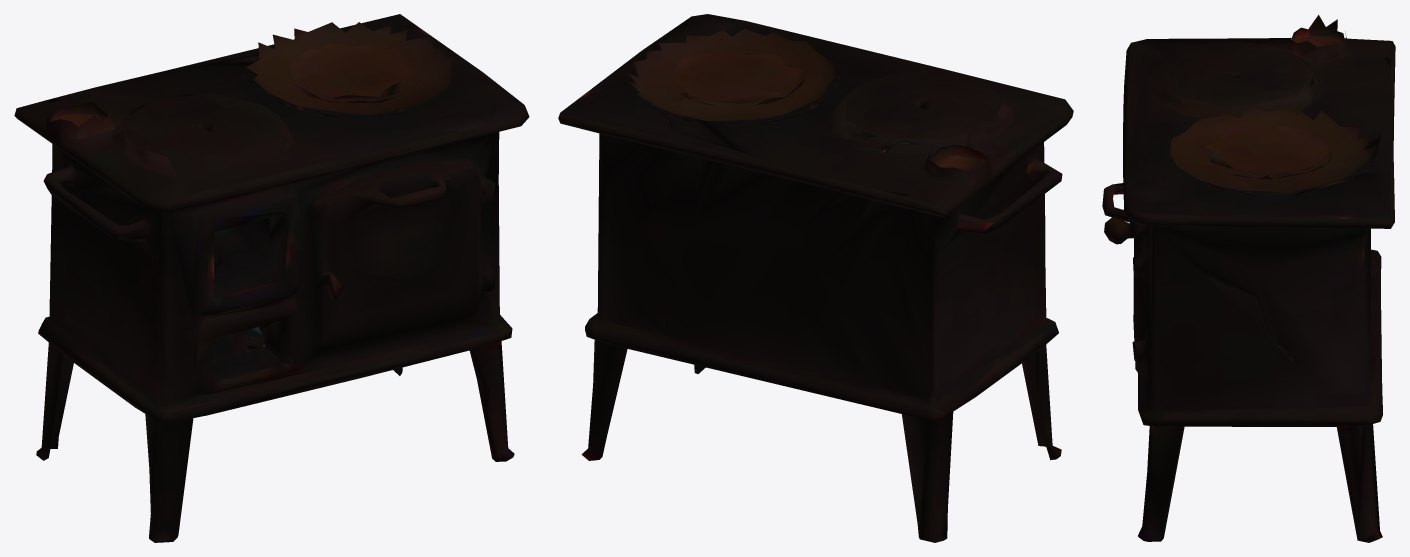
Rendered from cocina_rustica.movil.glb.
3 views of the same model, side by side, from view 1: azimuth 30°, elevation 25°; view 2: azimuth 150°, elevation 25°; view 3: azimuth 270°, elevation 25° (orthographic). The views are drawn at different scales.
Visible parts, largest first — view 1: geometry_0; view 2: geometry_0; view 3: geometry_0.
Part boxes in pixels (left/top/right/bottom): geometry_0: left=14, top=14, right=529, bottom=542; geometry_0: left=558, top=14, right=1073, bottom=542; geometry_0: left=1102, top=15, right=1395, bottom=542.
Size of the model in its own units: 0.8981 by 0.8 by 0.5978.
1 material, 1 textured.
